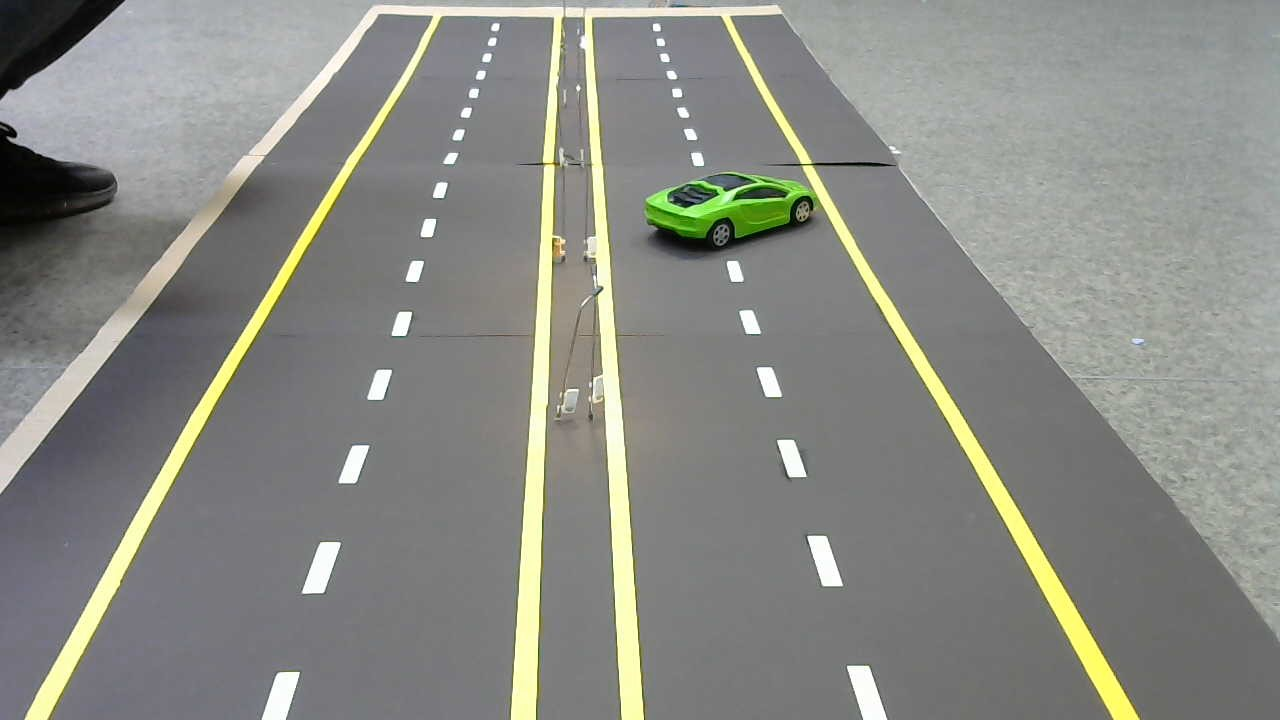overturn_car: (639, 164, 822, 259)
